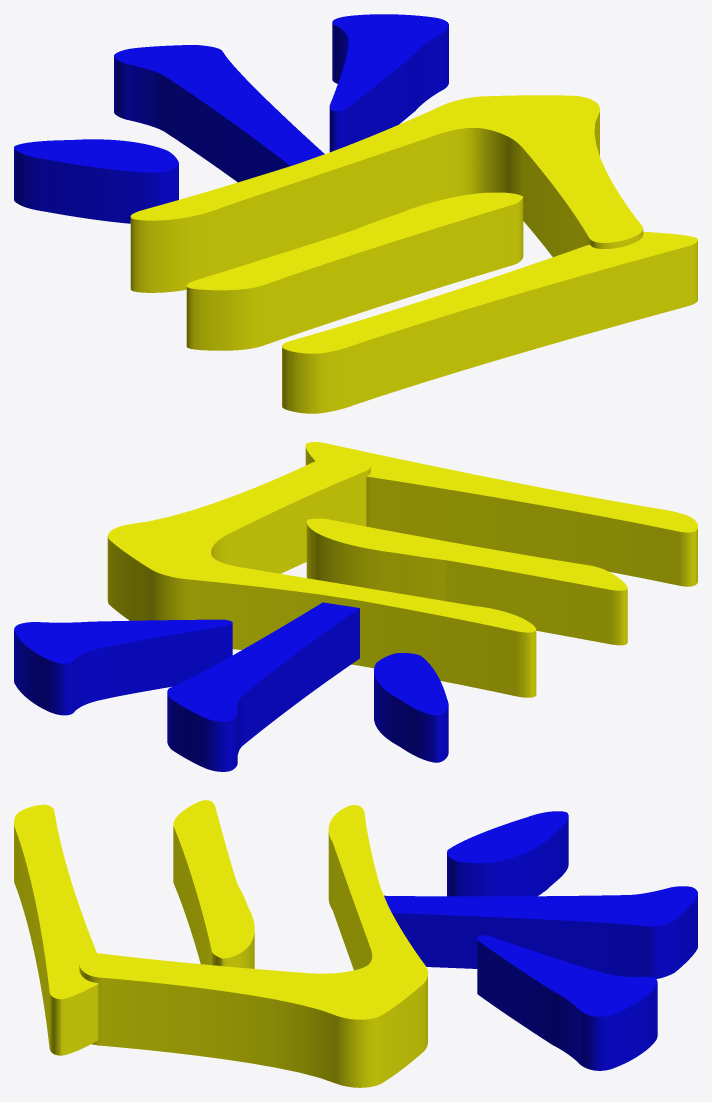
File: hanzi129.fbx
The picture shows the model from 3 angles, top to bottom: view 1: azimuth 30°, elevation 25°; view 2: azimuth 150°, elevation 25°; view 3: azimuth 270°, elevation 25°; orthographic projection. The views are drawn at different scales.
Parts seen in each view (by area): view 1: Curve.003, Curve.005, Curve.004, Curve, Curve.002, Curve.001; view 2: Curve.003, Curve.005, Curve.004, Curve, Curve.002, Curve.001; view 3: Curve.003, Curve, Curve.002, Curve.005, Curve.004, Curve.001.
Part boxes in pixels (x1=…): Curve.003: x1=130, y1=95, x2=643, y2=292; Curve.005: x1=282, y1=232, x2=697, y2=413; Curve.004: x1=186, y1=192, x2=523, y2=350; Curve: x1=114, y1=45, x2=324, y2=182; Curve.002: x1=329, y1=14, x2=448, y2=152; Curve.001: x1=14, y1=139, x2=178, y2=223; Curve.003: x1=107, y1=456, x2=536, y2=697; Curve.005: x1=305, y1=442, x2=697, y2=586; Curve.004: x1=306, y1=518, x2=627, y2=645; Curve: x1=167, y1=602, x2=359, y2=771; Curve.002: x1=14, y1=619, x2=232, y2=715; Curve.001: x1=374, y1=653, x2=448, y2=762; Curve.003: x1=79, y1=805, x2=427, y2=1087; Curve: x1=384, y1=886, x2=697, y2=978; Curve.002: x1=477, y1=935, x2=657, y2=1070; Curve.005: x1=14, y1=804, x2=98, y2=1055; Curve.004: x1=173, y1=800, x2=254, y2=968; Curve.001: x1=447, y1=811, x2=568, y2=896.
Bounding box in the file's own units: 16.63 × 21.34 × 2.34.
